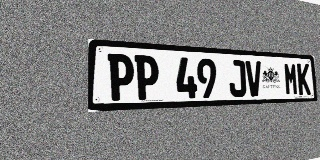4: (176, 57, 197, 99)
9: (197, 58, 217, 98)
J: (228, 60, 246, 97)
K: (297, 63, 311, 95)
M: (284, 62, 298, 95)
P: (108, 53, 134, 101), (135, 55, 159, 100)
V: (245, 61, 262, 97)
